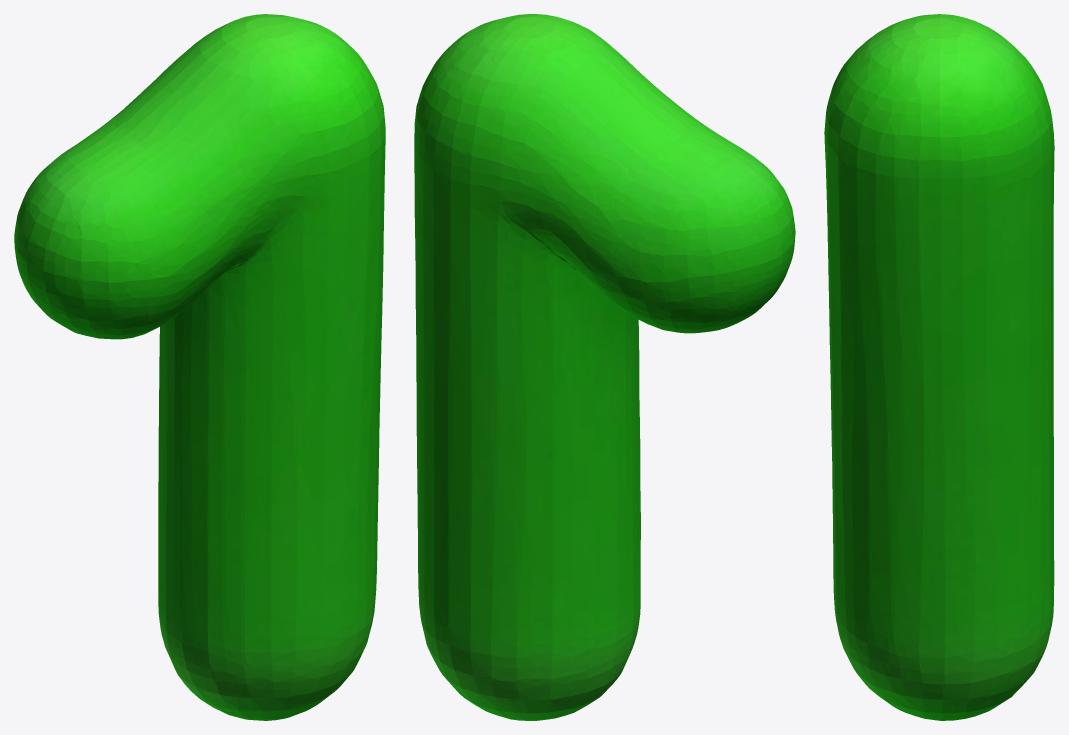
The picture shows the model from 3 angles, left to right: view 1: azimuth 30°, elevation 25°; view 2: azimuth 150°, elevation 25°; view 3: azimuth 270°, elevation 25°; orthographic projection.
Parts seen in each view (by area): view 1: geometry_0; view 2: geometry_0; view 3: geometry_0.
Part boxes in pixels (x1,y1,x2,y2): geometry_0: (14, 14, 385, 720); geometry_0: (414, 14, 795, 720); geometry_0: (824, 14, 1054, 720).
Size of the model in its own units: 0.5297 by 0.9999 by 0.304.
Materials: 1 (1 with a texture image).
